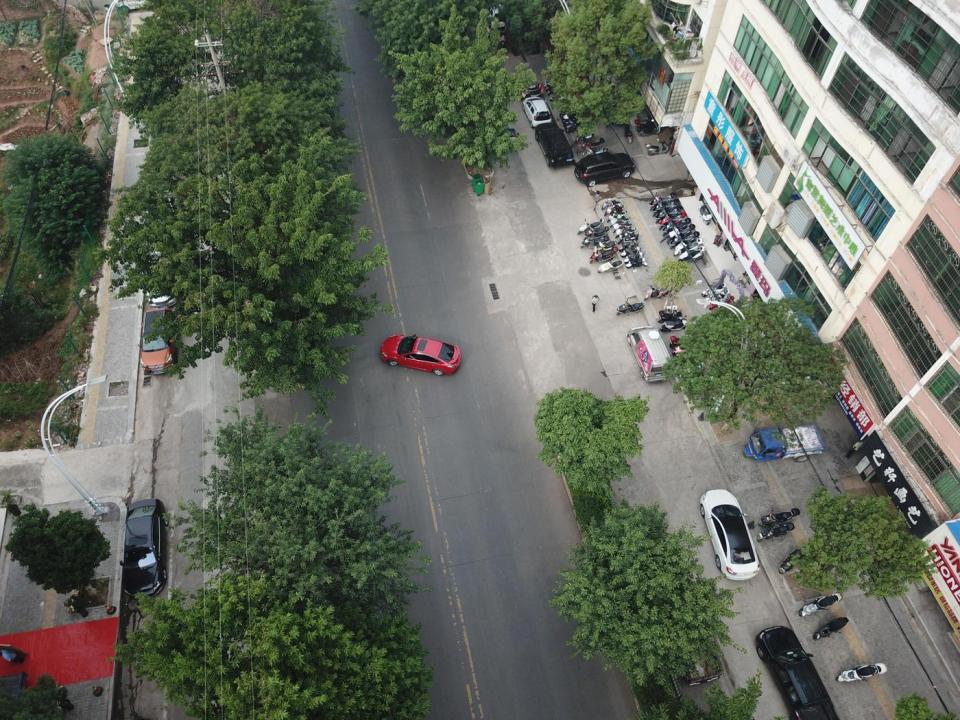car: (699, 489, 760, 581), (122, 495, 166, 601), (380, 335, 460, 375), (140, 308, 180, 371), (144, 250, 181, 309), (574, 154, 635, 185), (533, 123, 574, 168), (799, 592, 843, 616), (521, 96, 551, 127)
truck: (756, 626, 841, 720), (657, 591, 724, 685)
van: (625, 325, 672, 380)
